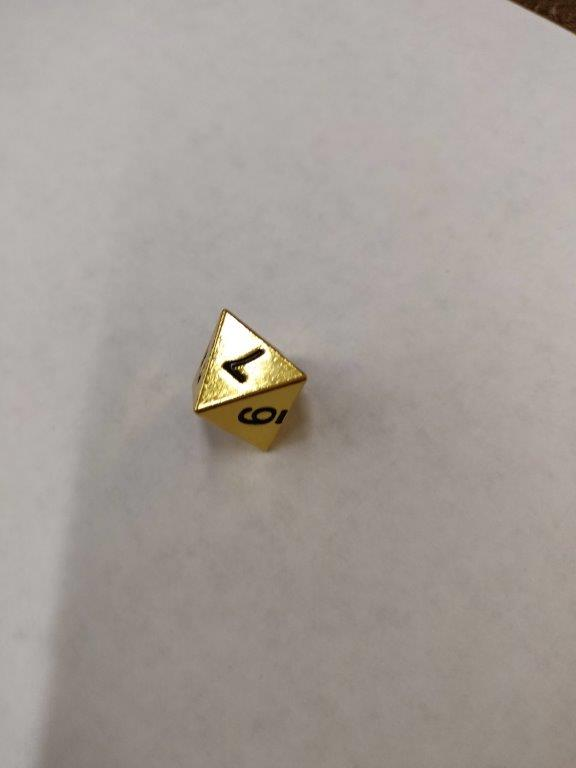d8-7: (195, 309, 306, 459)
